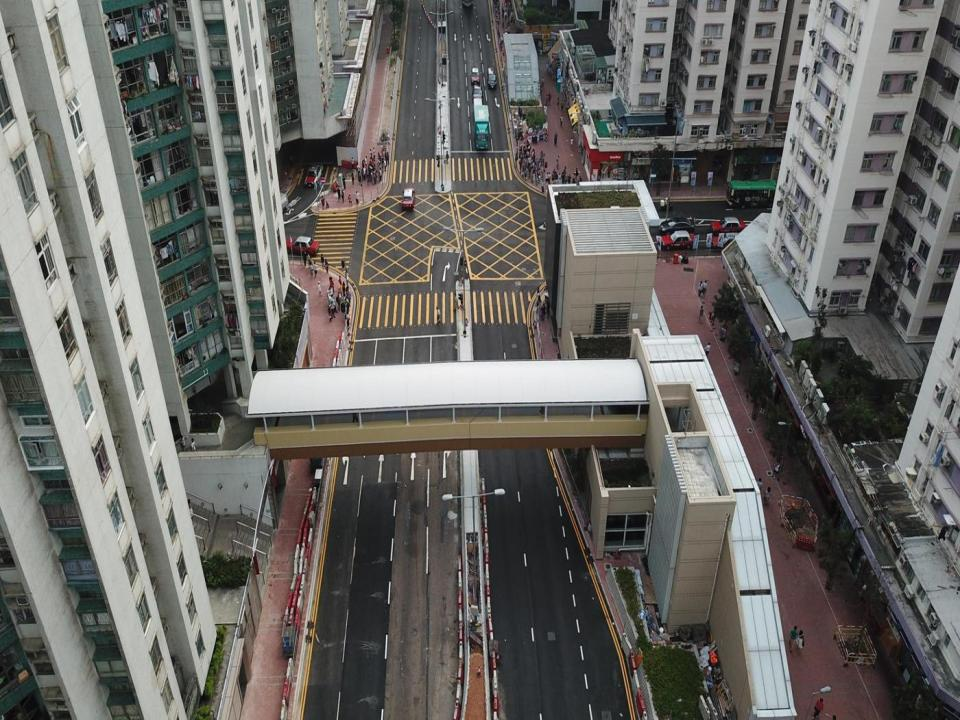car: (662, 231, 698, 250), (284, 236, 319, 255), (659, 217, 695, 235), (710, 216, 745, 234), (710, 230, 744, 247), (302, 164, 324, 185), (402, 186, 415, 210), (470, 83, 483, 101), (471, 67, 479, 85)
truck: (473, 105, 490, 151)
van: (487, 66, 498, 90), (474, 98, 484, 115)
